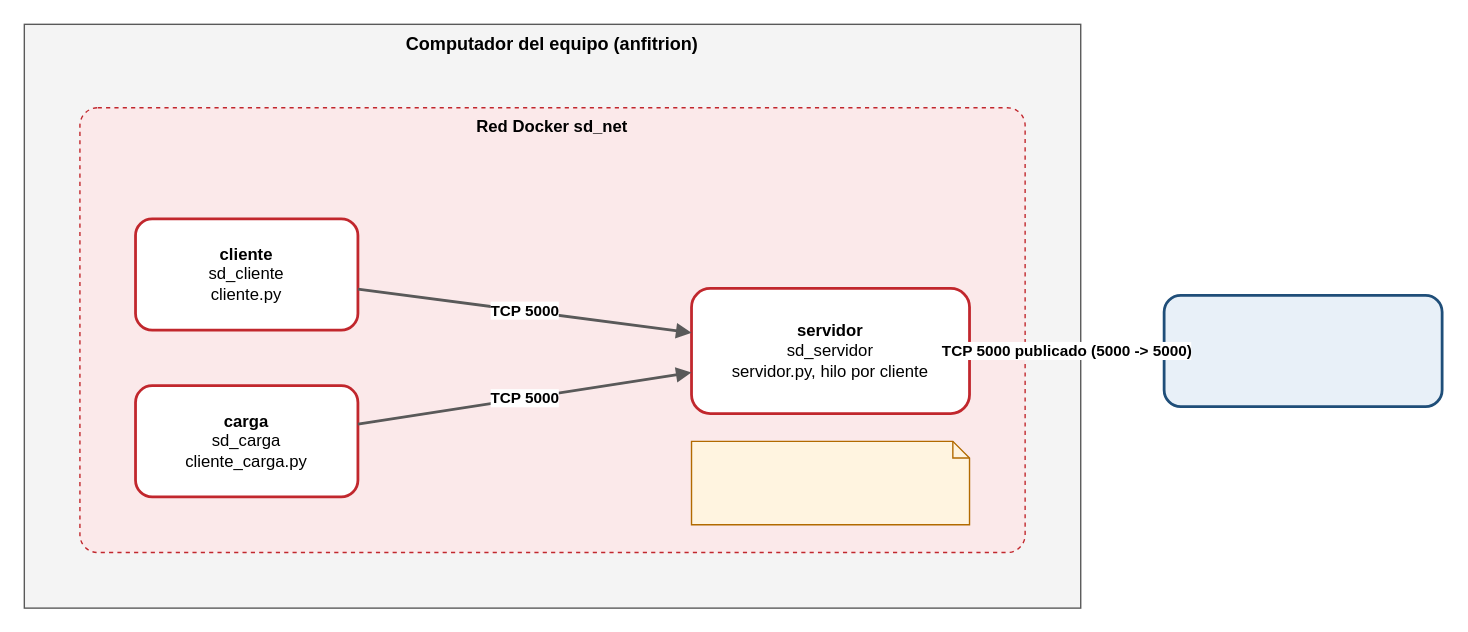
Some shapes in this 1468 by 632 pixel diagram are drawn without their labels. Each missing label, with the centre of its shape:
"Estado compartido inventario en memoria, protegido por Lock" belongs at point (830, 482).
"Otro equipo su cliente, por la red del laboratorio" belongs at point (1302, 350).
